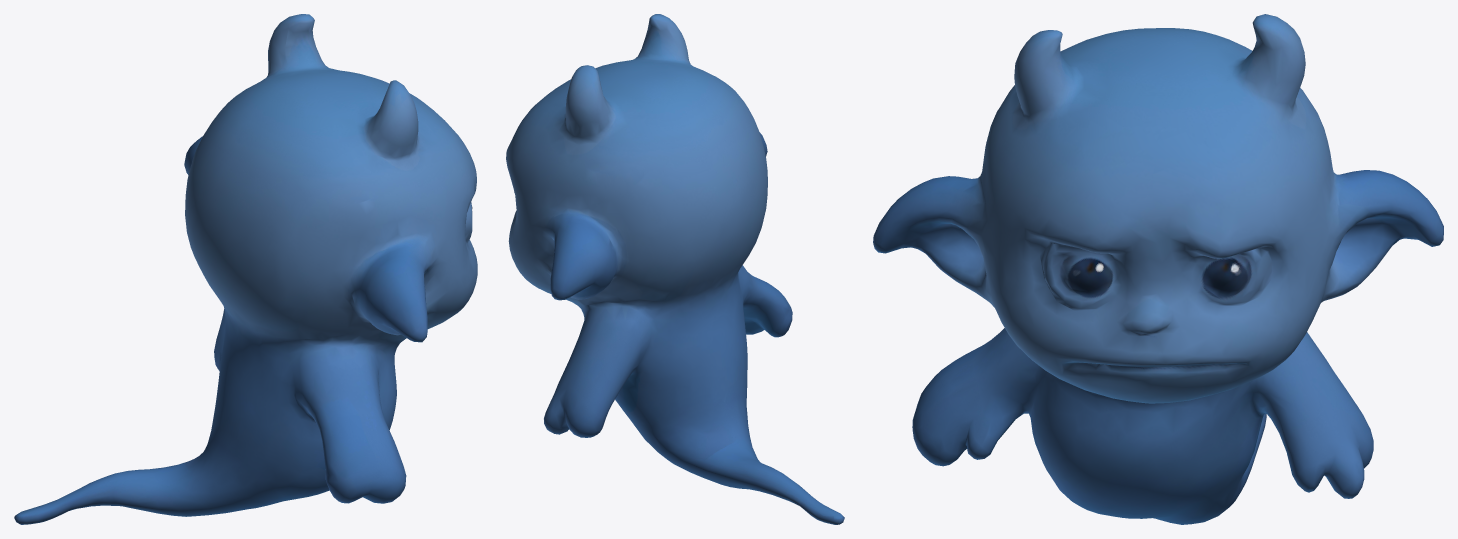
3 renders of one model, left to right at view 1: azimuth 30°, elevation 25°; view 2: azimuth 150°, elevation 25°; view 3: azimuth 270°, elevation 25°, orthographic. The views are drawn at different scales.
Visible parts, largest first — view 1: tripo_node_a4b50484-f93f-4fce-bb3c-487caf02ec19; view 2: tripo_node_a4b50484-f93f-4fce-bb3c-487caf02ec19; view 3: tripo_node_a4b50484-f93f-4fce-bb3c-487caf02ec19.
Part boxes in pixels (bbox=[...]): tripo_node_a4b50484-f93f-4fce-bb3c-487caf02ec19: bbox=[14, 14, 477, 524]; tripo_node_a4b50484-f93f-4fce-bb3c-487caf02ec19: bbox=[506, 14, 844, 524]; tripo_node_a4b50484-f93f-4fce-bb3c-487caf02ec19: bbox=[873, 14, 1443, 524].
Bounding box in the file's own units: 94.35 × 99.99 × 92.71.
Materials: 1 (1 with a texture image).
